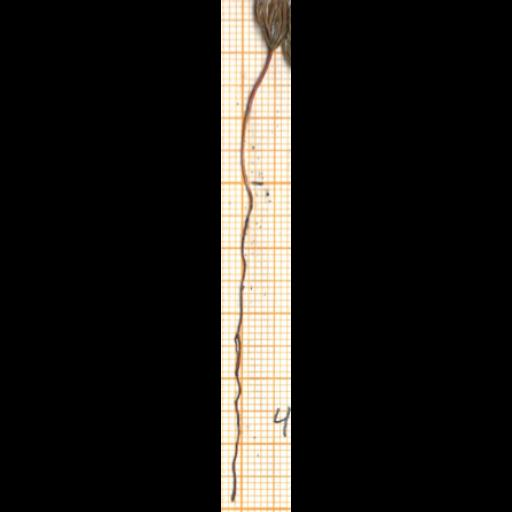flowerPinus: (253, 0, 291, 52)
rootPinus: (232, 185, 253, 502), (232, 301, 243, 501)
stemPinus: (239, 49, 273, 187)
